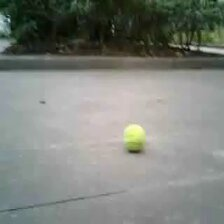tennis: (122, 123, 146, 151)
